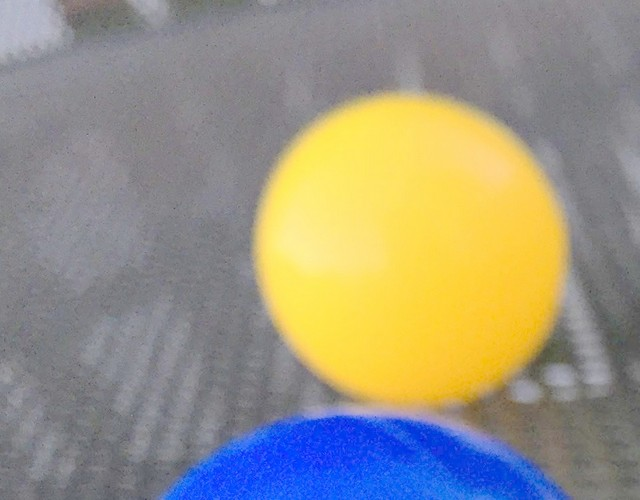Ball: (254, 87, 562, 409)
